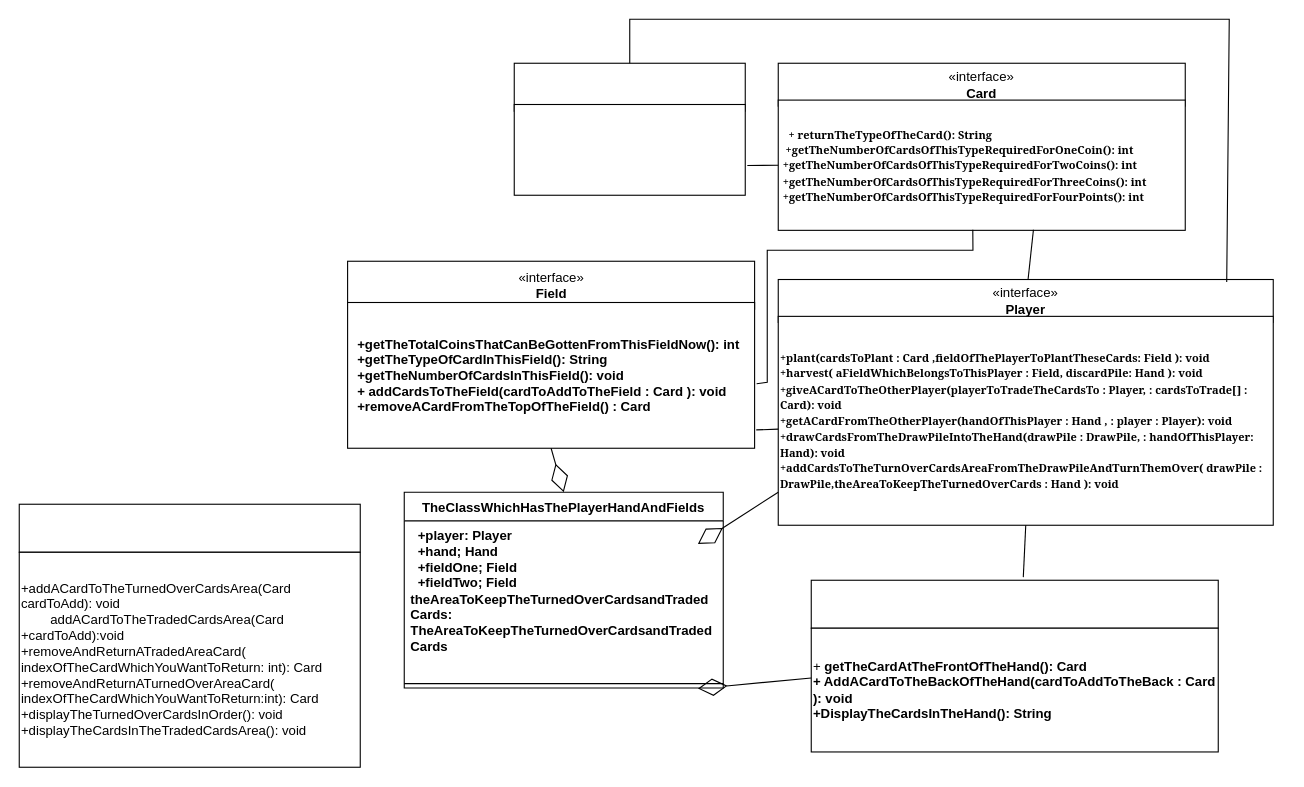
This 1304x787 diagram has some shape labels left out. Here are the shapes that lost their labels. From the top down, the centre of each, then its label:
point 629,86: «interface» DrawPile
point 629,149: + getOneCardFromTheDrawPile(): Card
point 189,527: «interface» TheAreaToKeepTheTurnedOverCardsandTradedCards
point 1014,603: «interface» Hand
